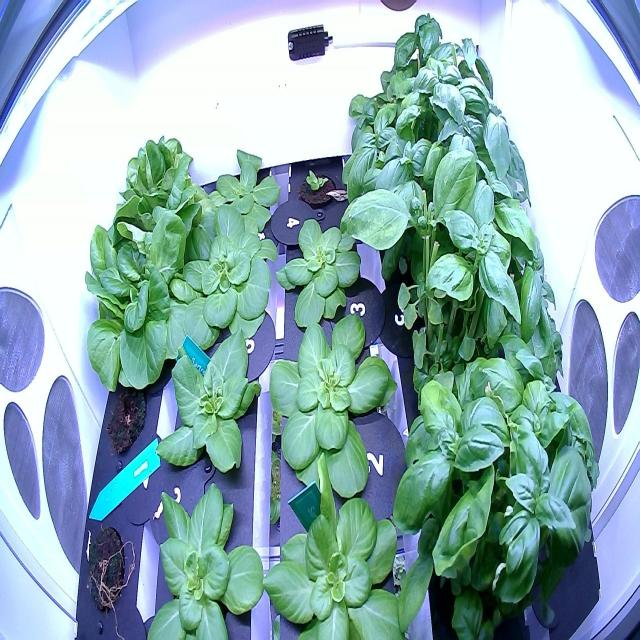Ready: (74, 196, 198, 400), (112, 120, 211, 247)
pod: (79, 516, 129, 618), (101, 368, 151, 460)
young: (256, 451, 413, 639), (265, 305, 404, 508), (138, 464, 268, 639), (148, 319, 271, 488), (165, 199, 283, 352), (269, 208, 376, 332), (201, 144, 287, 239), (293, 157, 339, 212)
